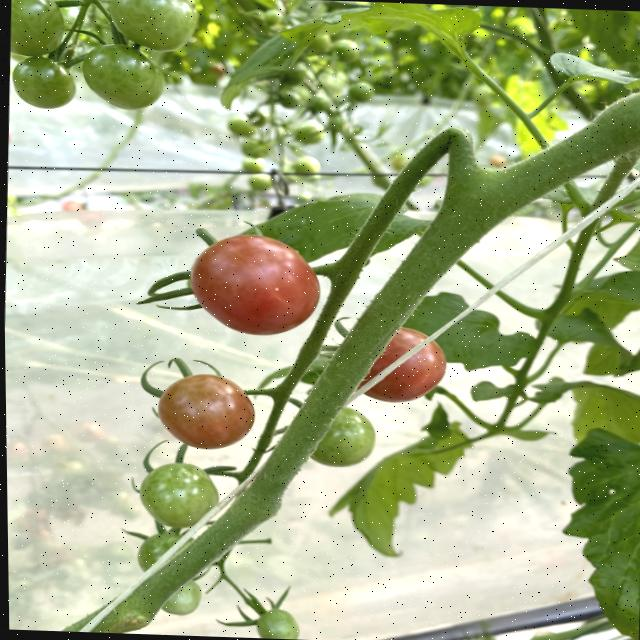ripe0: (141, 462, 219, 524), (10, 55, 78, 109)
ripe1: (156, 372, 256, 449)
ripe2: (192, 231, 320, 335)
